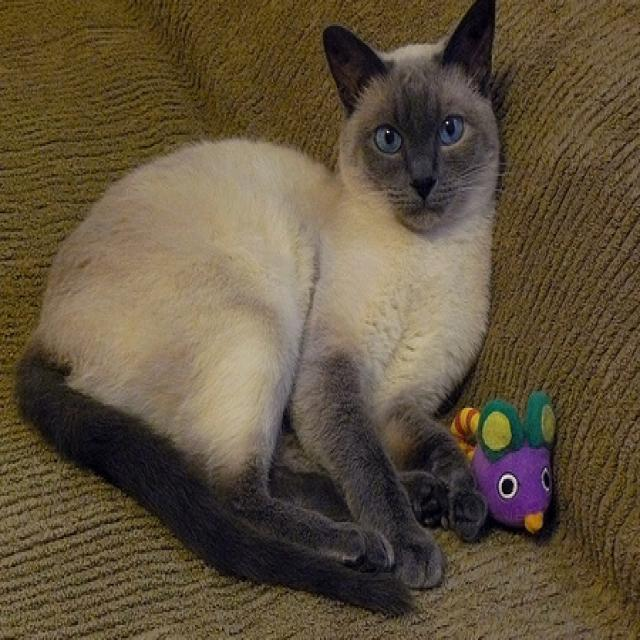Siamese: (8, 0, 503, 619)
